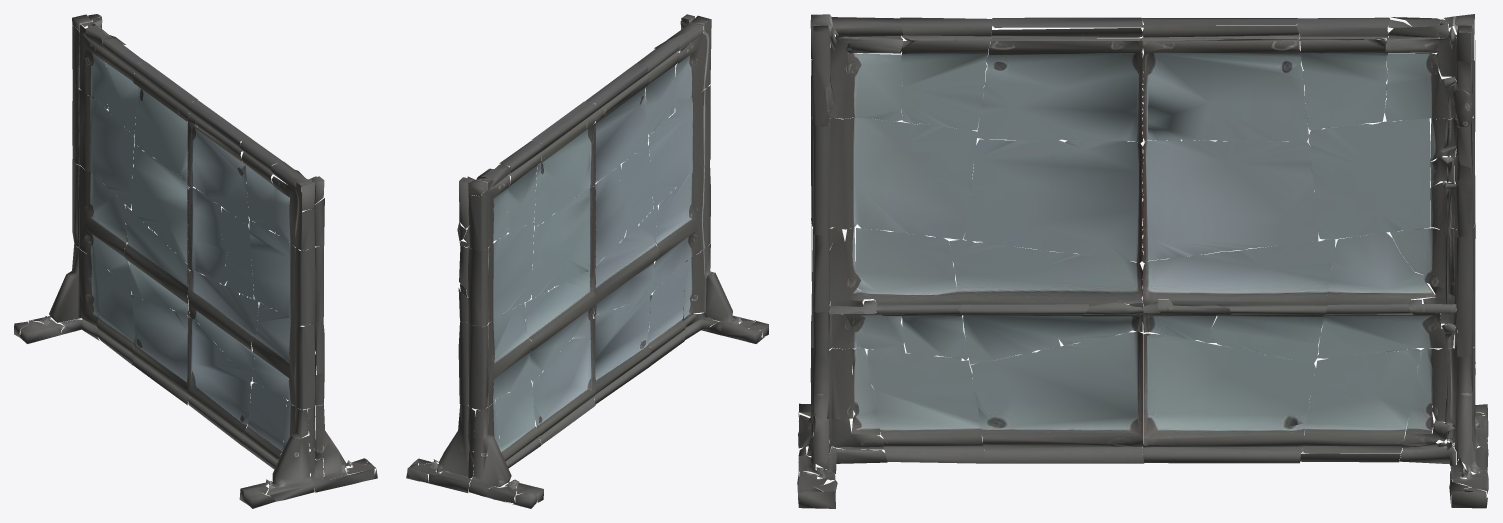
Rendered from arch_glass_barrier_LOD2.glb.
3 views of the same model, side by side, from view 1: azimuth 30°, elevation 25°; view 2: azimuth 150°, elevation 25°; view 3: azimuth 270°, elevation 25° (orthographic). The views are drawn at different scales.
Parts seen in each view (by area): view 1: tripo_node_7fcb3078-808f-4030-9b7c-97f93c8b896c; view 2: tripo_node_7fcb3078-808f-4030-9b7c-97f93c8b896c; view 3: tripo_node_7fcb3078-808f-4030-9b7c-97f93c8b896c.
Part boxes in pixels (<box>): tripo_node_7fcb3078-808f-4030-9b7c-97f93c8b896c: <box>14,14,377,508</box>; tripo_node_7fcb3078-808f-4030-9b7c-97f93c8b896c: <box>406,14,768,508</box>; tripo_node_7fcb3078-808f-4030-9b7c-97f93c8b896c: <box>797,14,1488,508</box>.
Size of the model in its own units: 0.3047 by 0.7074 by 0.9977.
1 material, 1 textured.
